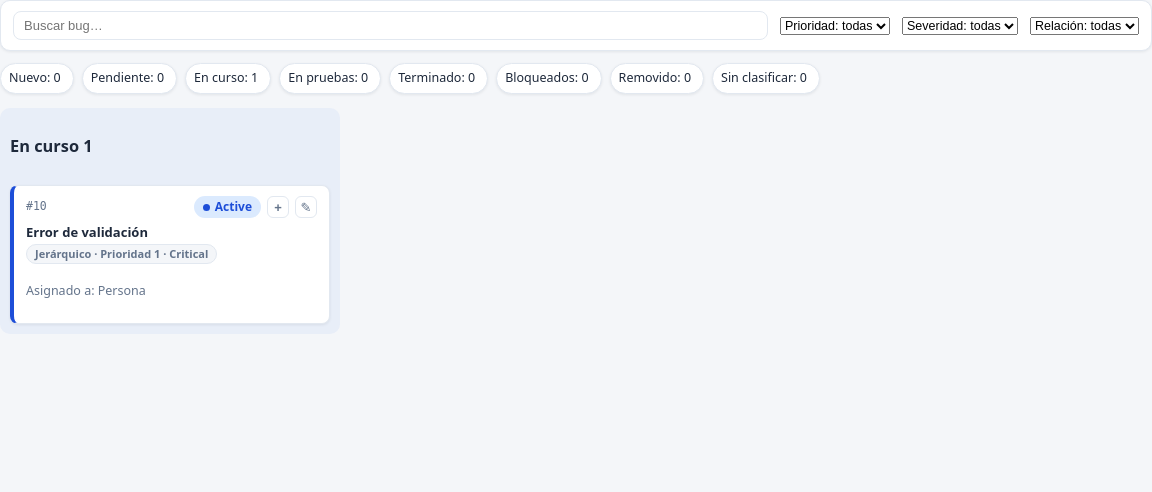
Test: TableroBugs › muestra el aviso de solo lectura cuando la escritura está deshabilitada
The width and height of the screenshot is (1152, 492).
Click the button named "editar bug #10 (qa)": (306, 207) [295,196,317,218]
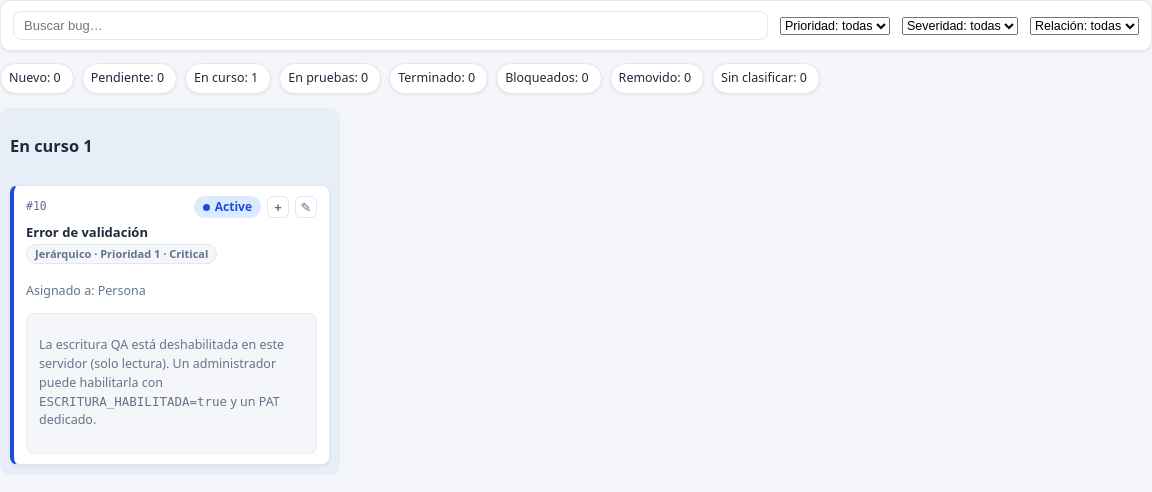
Expected: the text "solo lectura" is shown, [39,336,284,391]
